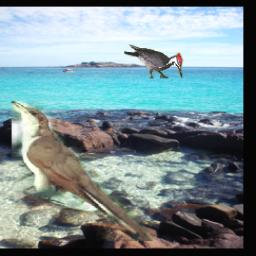Cuckoo: (12, 101, 153, 241)
Woodpecker: (124, 44, 183, 78)
